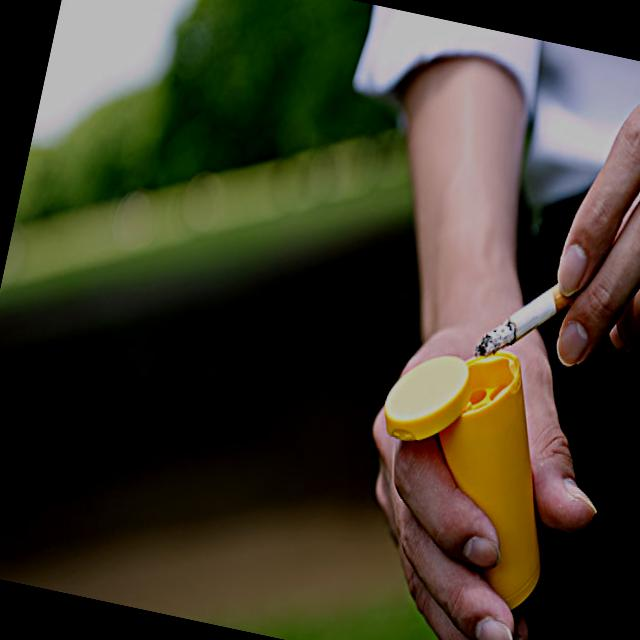smoke: (474, 268, 560, 373)
